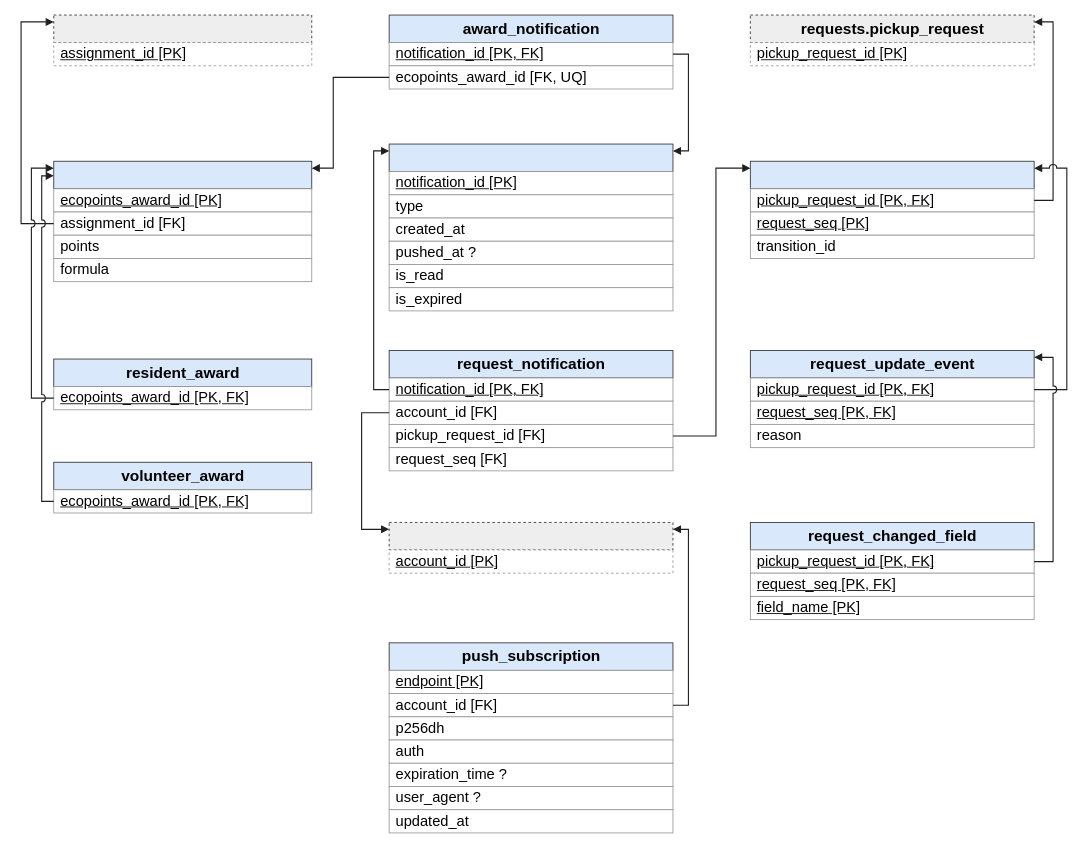
The diagram is 1090 pixels wide and 848 high, and some of its shapes have lost their labels. Each missing label, with the centre of its shape:
"ecopoints_award" belongs at (x=182, y=174).
"notification" belongs at (x=530, y=157).
"request_event" belongs at (x=891, y=174).
"requests.assignment" belongs at (x=182, y=28).
"users.account" belongs at (x=530, y=536).
